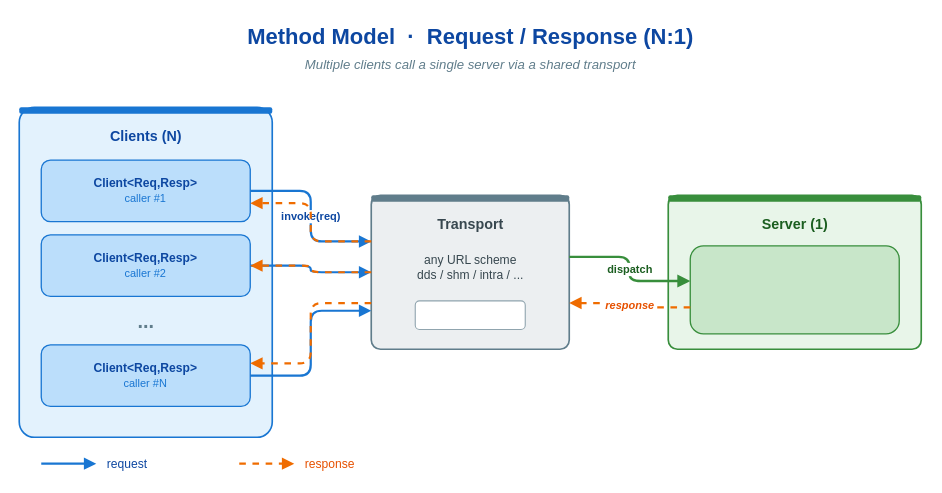
Some shapes in this 942 by 493 pixel diagram are drawn without their labels. Each missing label, with the centre of its shape:
same API: [469,314]
Server<Req,Resp> handles requests: [794,289]
